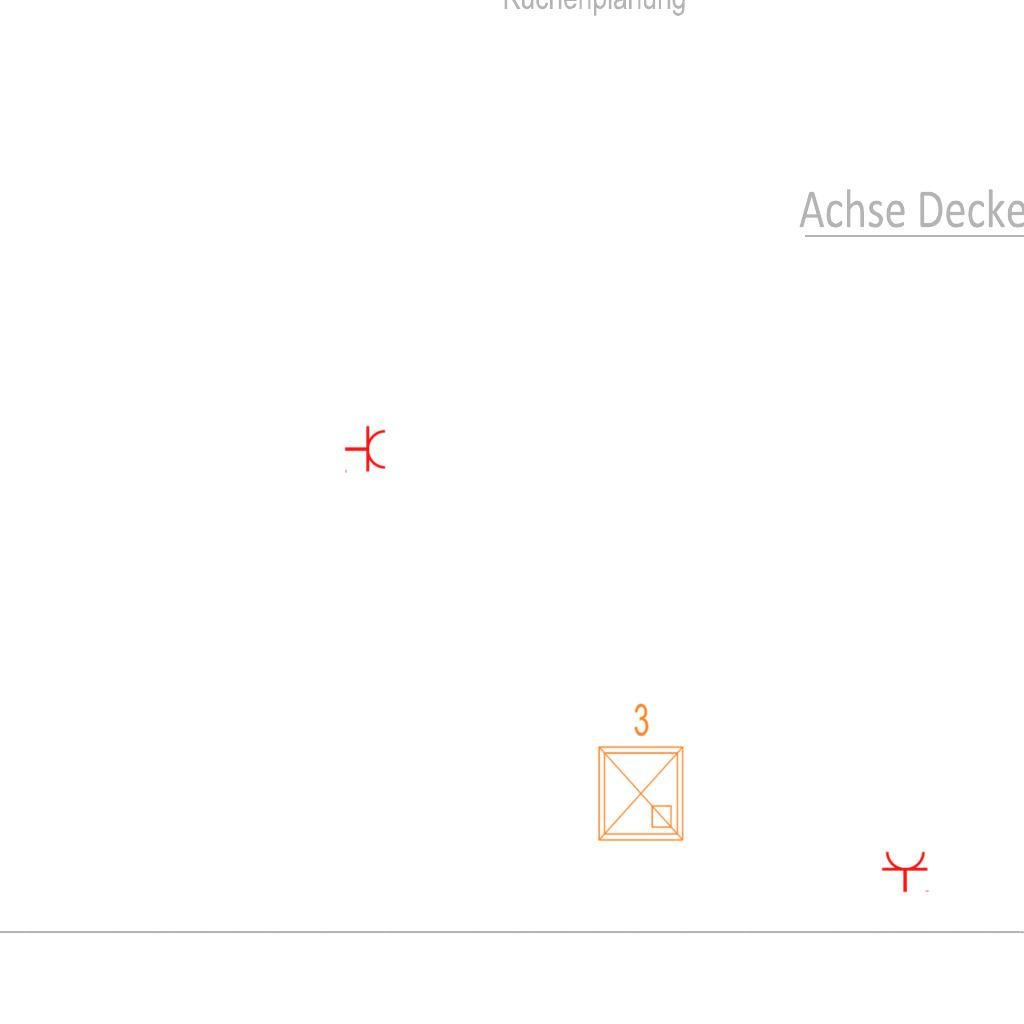Einbaudownlights_LED_Konferenzraeume: (587, 698, 691, 848)
Schukosteckdose_einfach: (344, 425, 387, 475), (881, 850, 931, 893)
